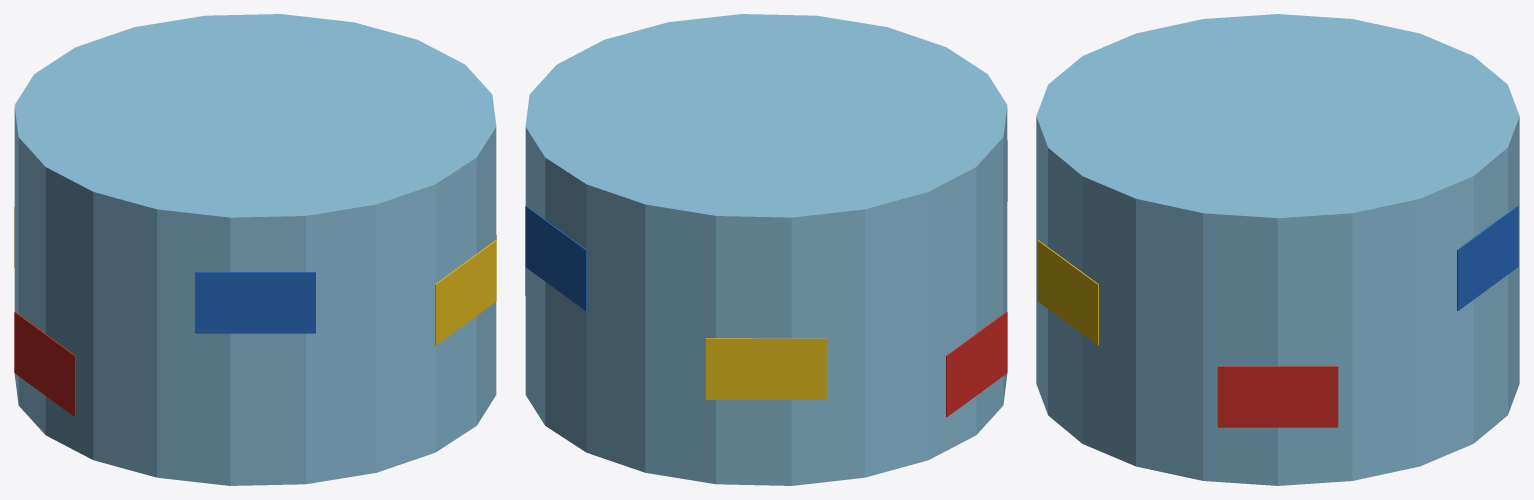
The model's file is digicel_tank.glb.
The picture shows the model from 3 angles, left to right: view 1: azimuth 30°, elevation 25°; view 2: azimuth 150°, elevation 25°; view 3: azimuth 270°, elevation 25°; orthographic projection.
Parts seen in each view (by area): view 1: digicel_tank_lod0; view 2: digicel_tank_lod0; view 3: digicel_tank_lod0.
Boxes of the visible parts, x1,y1,x2,y2 form: digicel_tank_lod0: (14, 14, 496, 485); digicel_tank_lod0: (525, 14, 1007, 485); digicel_tank_lod0: (1036, 14, 1519, 485).
Size of what is drawn, in the model's own units: 18.09 by 11 by 18.
